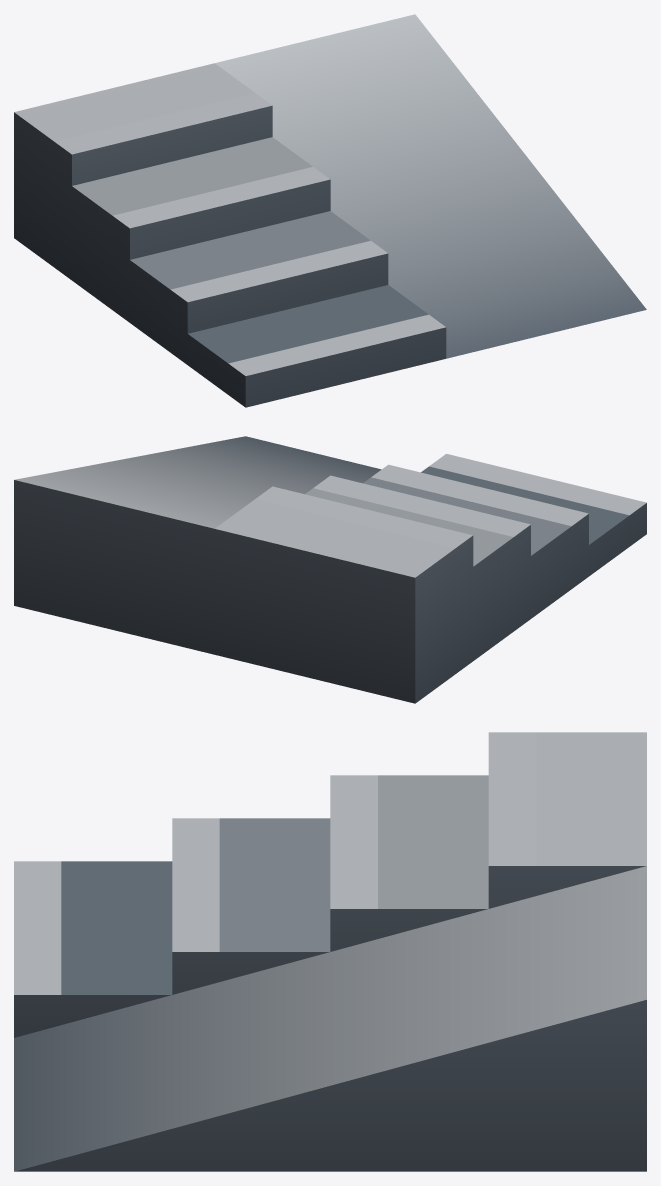
The model's file is stairs-ramp.glb.
The picture shows the model from 3 angles, top to bottom: view 1: azimuth 30°, elevation 25°; view 2: azimuth 150°, elevation 25°; view 3: azimuth 270°, elevation 25°; orthographic projection. The views are drawn at different scales.
Parts seen in each view (by area): view 1: stairs-ramp; view 2: stairs-ramp; view 3: stairs-ramp.
Part boxes in pixels (x1,y1,x2,y2): stairs-ramp: (14, 14, 646, 407); stairs-ramp: (14, 436, 646, 703); stairs-ramp: (14, 732, 646, 1171).
Bounding box in the file's own units: 1 × 0.3 × 1.
